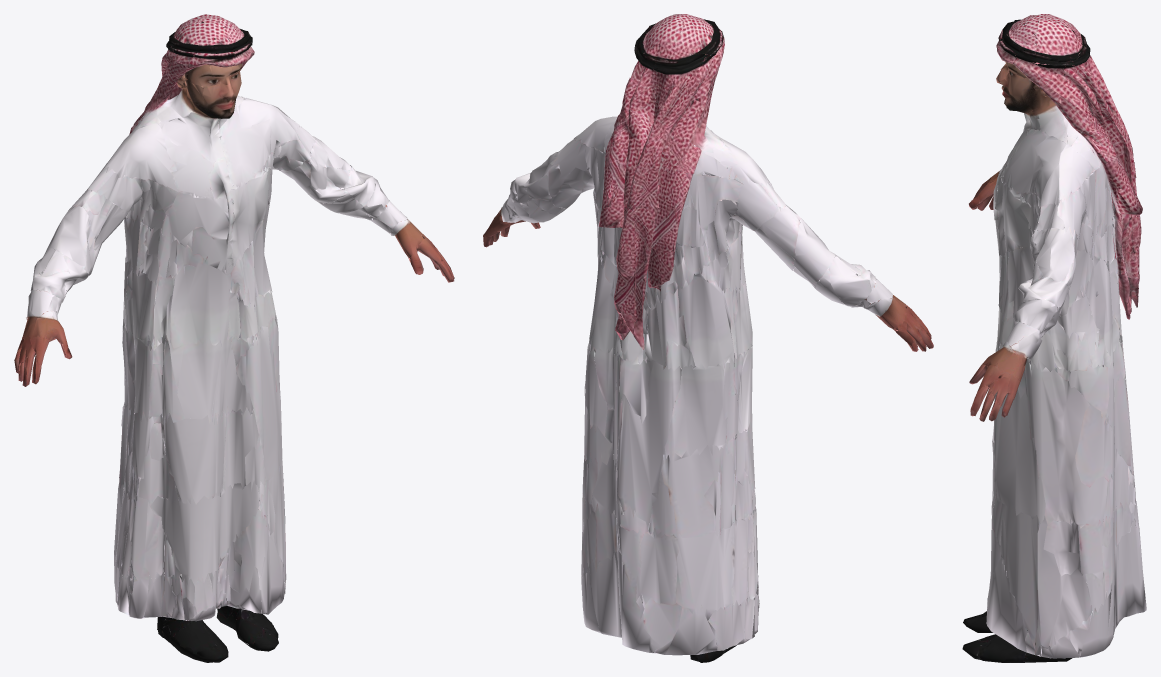
Rendered from gcc-inspection.glb.
The picture shows the model from 3 angles, left to right: view 1: azimuth 30°, elevation 25°; view 2: azimuth 150°, elevation 25°; view 3: azimuth 270°, elevation 25°; orthographic projection. The views are drawn at different scales.
Visible parts, largest first — view 1: Mesh_0; view 2: Mesh_0; view 3: Mesh_0.
Boxes of the visible parts, x1=… form: Mesh_0: x1=14, y1=14, x2=454, y2=662; Mesh_0: x1=483, y1=14, x2=933, y2=662; Mesh_0: x1=962, y1=14, x2=1146, y2=662.
Size of the model in its own units: 1.4 by 1.9 by 0.507.
1 material, 1 textured.
